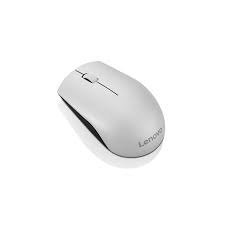mouse: (53, 58, 175, 167)
